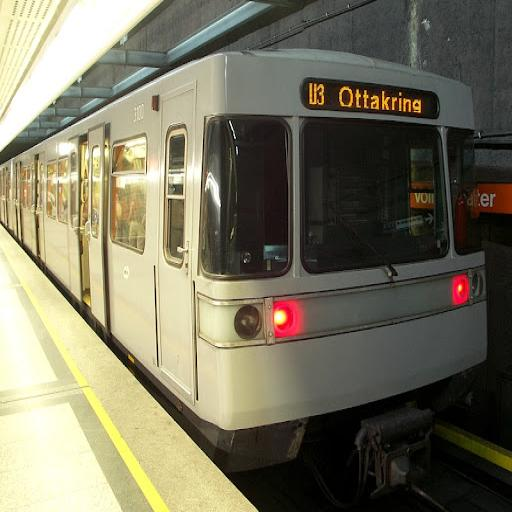Silberpfeil: (0, 48, 481, 443)
